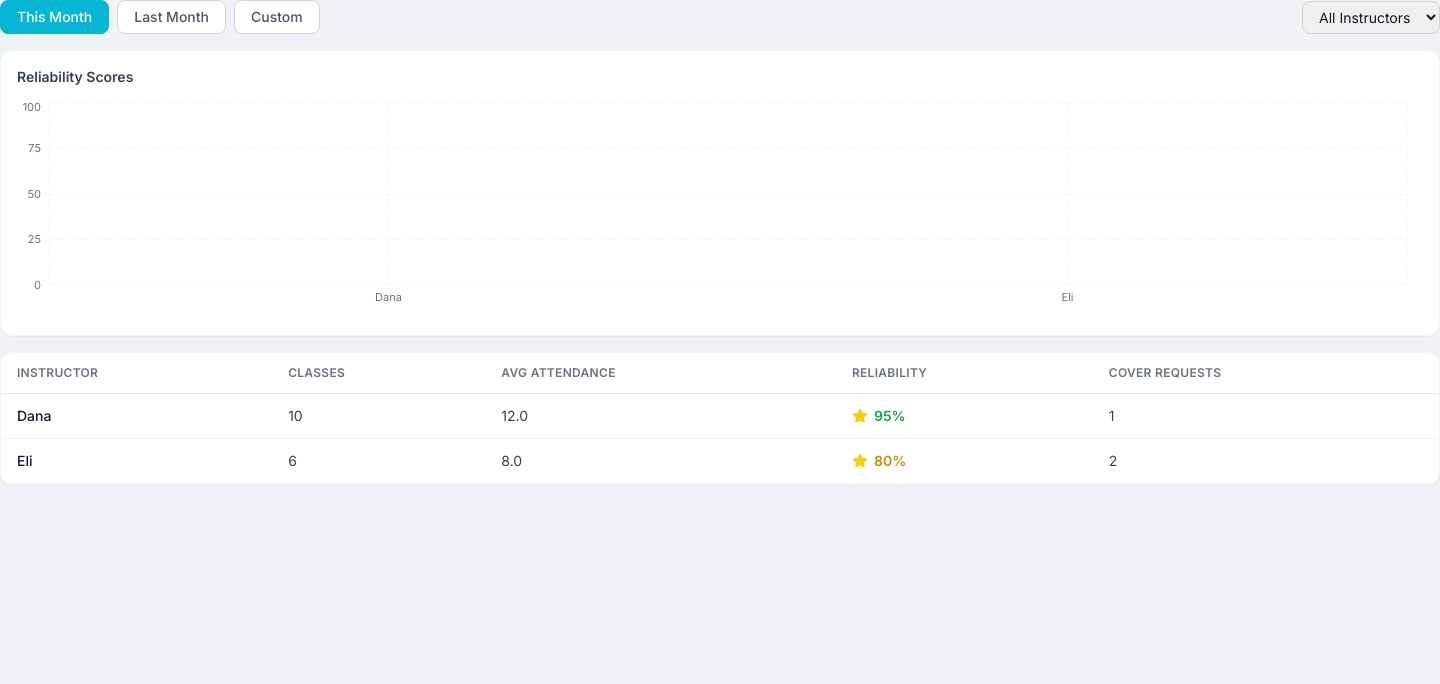
Test: InstructorsTab — filter + per-instructor charts (F8) › loads charts for the selected instructor
Select "Dana" in the dropdown named "Filter by instructor" at (1371, 17), box [1302,0,1439,34]
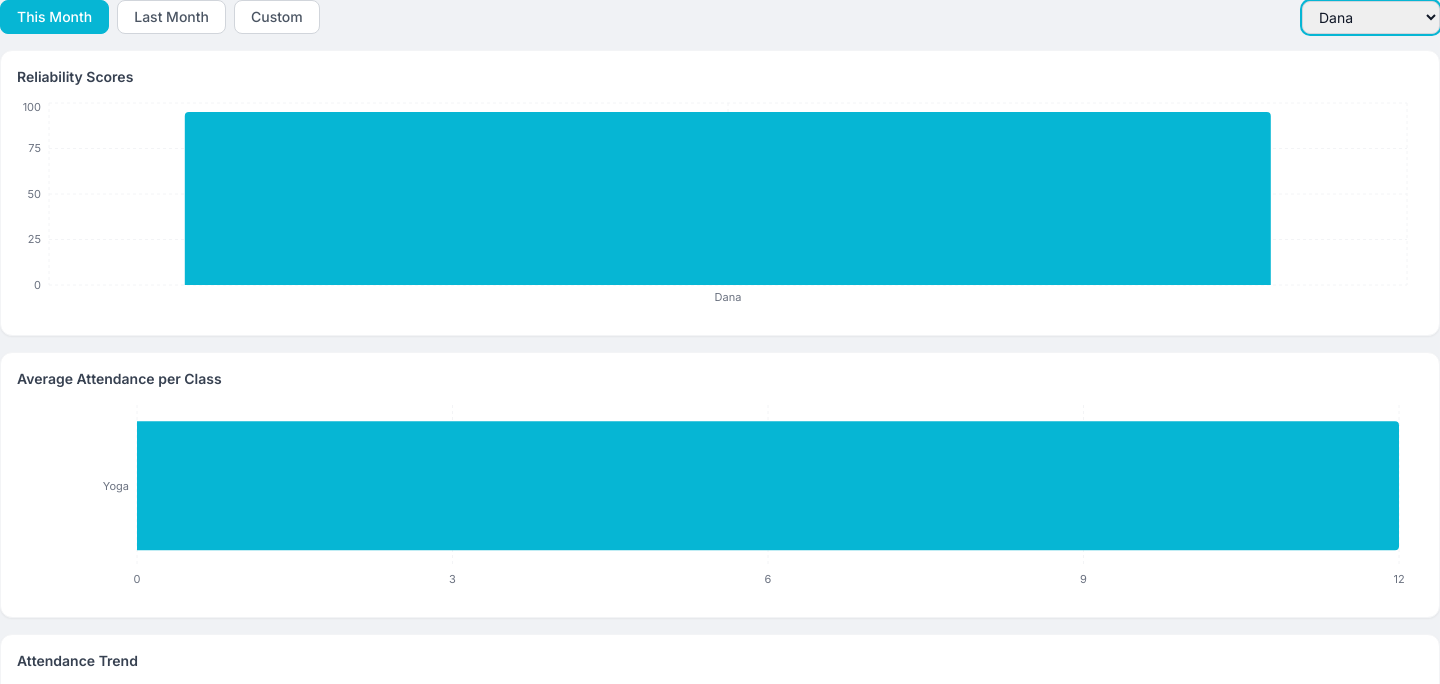
Result: the heading "Average Attendance per Class" is shown at [17,370,222,387]
Result: the heading "Attendance Trend" is shown at [17,652,138,669]
